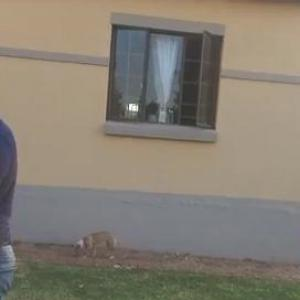follow: (0, 40, 21, 299)
null: (70, 226, 132, 263)
